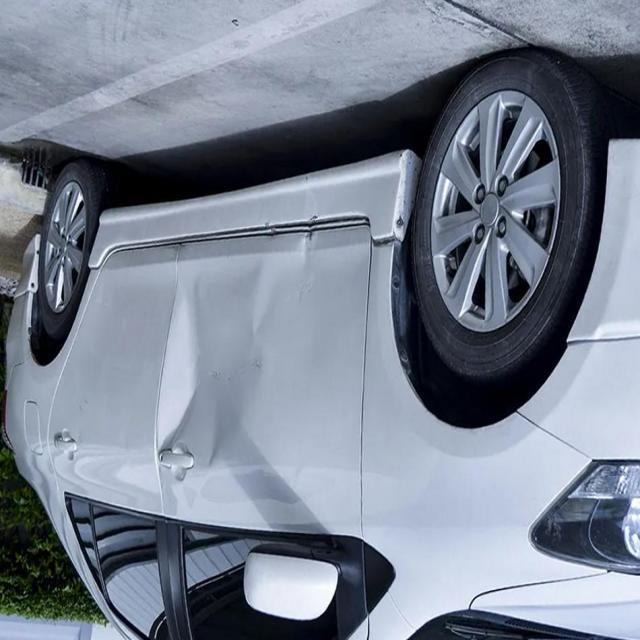dent: (148, 260, 290, 440)
